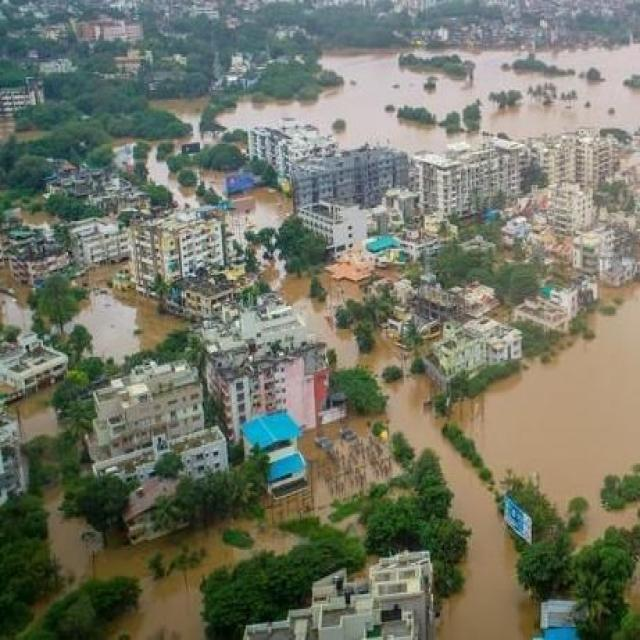flooded_areas: (0, 34, 623, 594)
